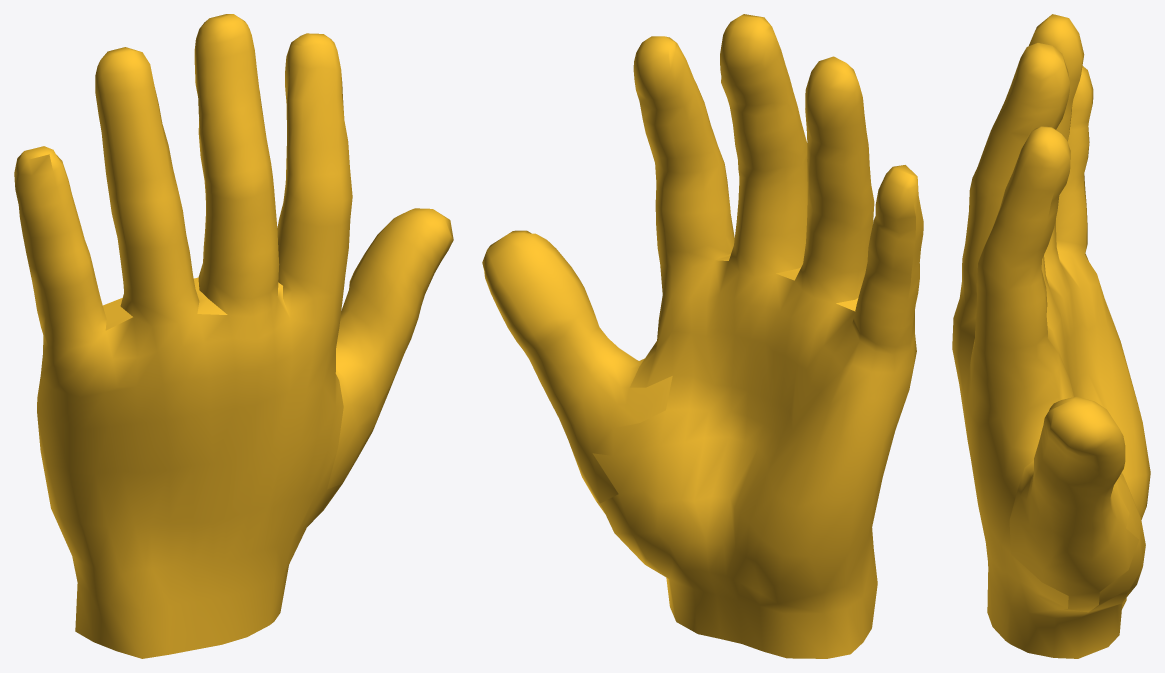
The model's file is armL (3).fbx.
The picture shows the model from 3 angles, left to right: view 1: azimuth 30°, elevation 25°; view 2: azimuth 150°, elevation 25°; view 3: azimuth 270°, elevation 25°; orthographic projection. The views are drawn at different scales.
Visible parts, largest first — view 1: Plane; view 2: Plane; view 3: Plane.
Boxes of the visible parts, x1,y1,x2,y2 form: Plane: (14, 14, 453, 658); Plane: (482, 14, 923, 658); Plane: (952, 14, 1150, 658).
Size of the model in its own units: 1493 by 1975 by 609.
